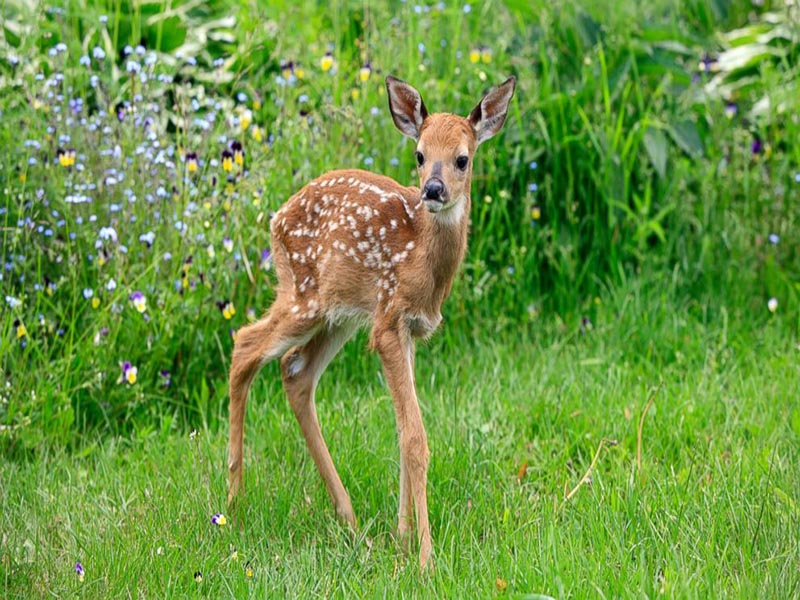cervo: (200, 62, 526, 577)
